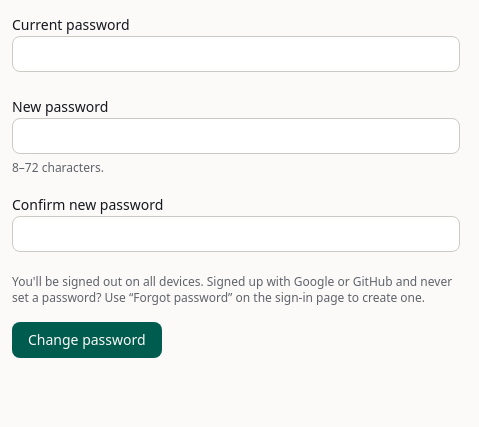
ChangePasswordForm › shows a wrong current password from the server and stays signed in
Type "wrong-password" into the password field labelled "Current password" at [236, 54], box [12,36,460,72]
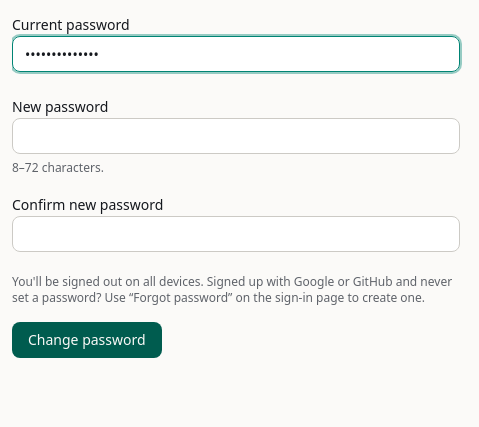
Type "new-password-1" into the password field labelled "New password" at [236, 136], box [12,118,460,154]
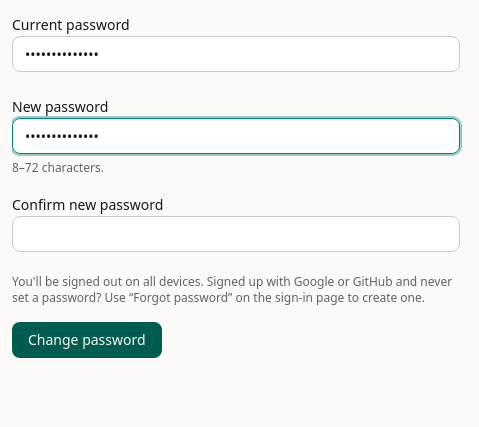
Type "new-password-1" into the password field labelled "Confirm new password" at [236, 234], box [12,216,460,252]
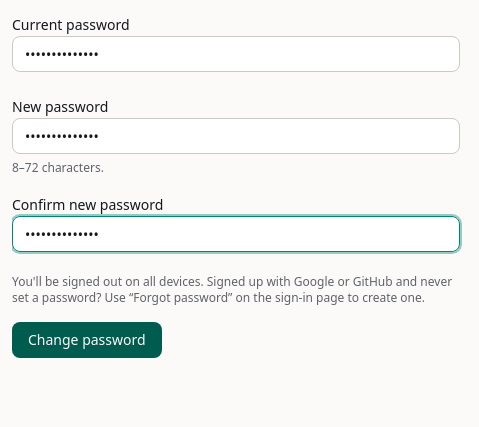
Click the button "Change password" at [87, 340], box [12,322,162,358]
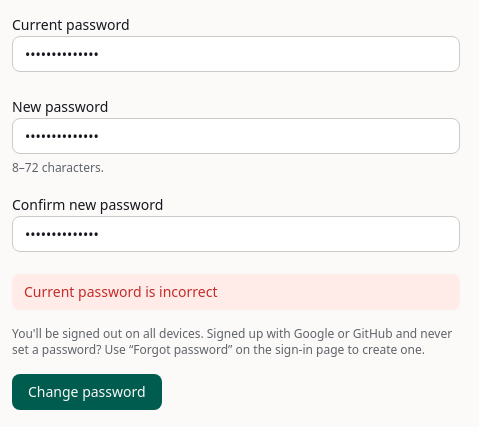
Result: the message reads "Current password is incorrect" at [24,282,218,301]
